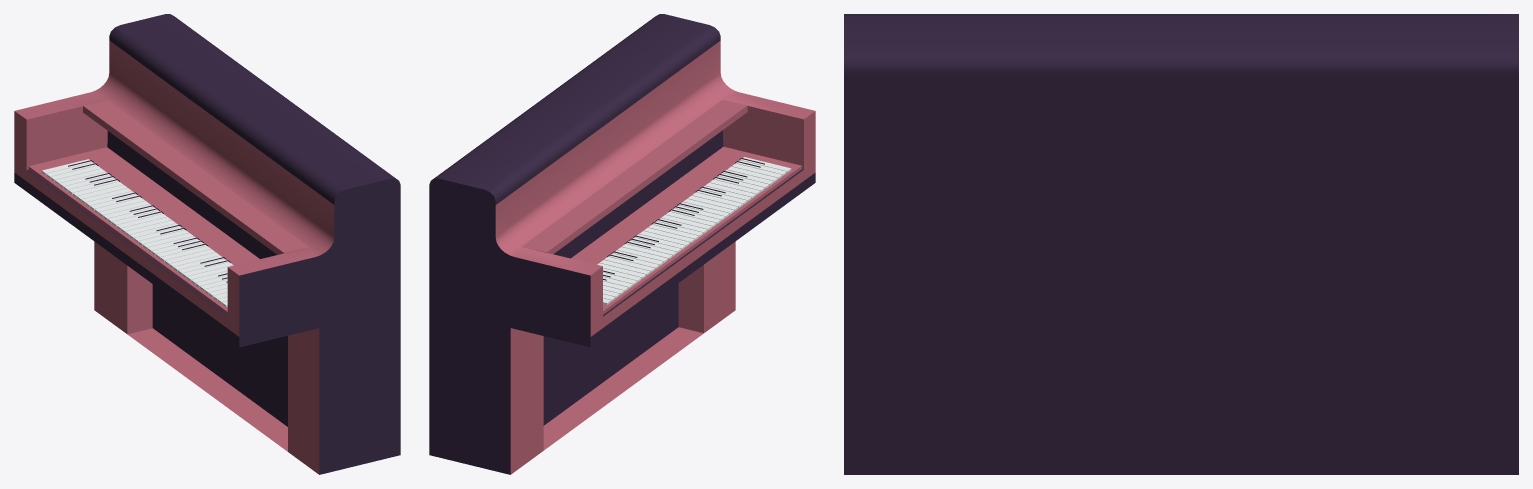
File: piano.fbx
3 renders of one model, left to right at view 1: azimuth 30°, elevation 25°; view 2: azimuth 150°, elevation 25°; view 3: azimuth 270°, elevation 25°, orthographic. The views are drawn at different scales.
Parts seen in each view (by area): view 1: Cube; view 2: Cube; view 3: Cube.
Part boxes in pixels (<box>): Cube: <box>14,14,400,474</box>; Cube: <box>429,14,815,474</box>; Cube: <box>844,14,1518,474</box>.
Size of the model in its own units: 80.16 by 133 by 194.
